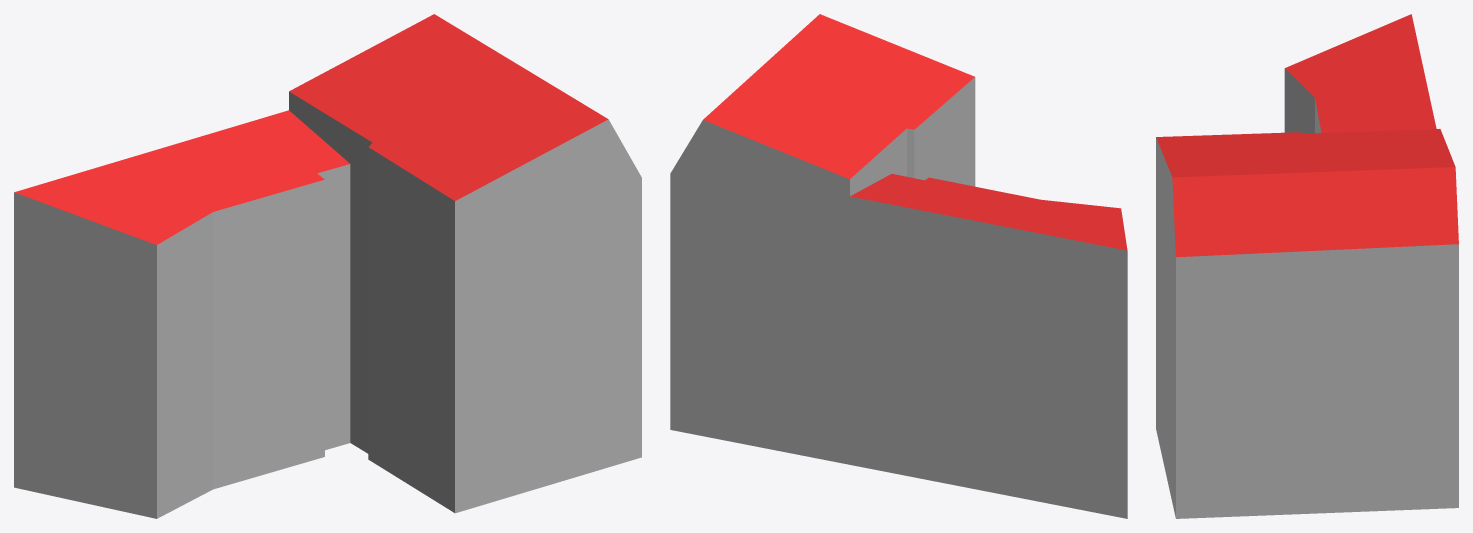
Rendered from DEBE3D01YYK0002Lmq.dae.
3 views of the same model, side by side, from view 1: azimuth 30°, elevation 25°; view 2: azimuth 150°, elevation 25°; view 3: azimuth 270°, elevation 25° (orthographic). The views are drawn at different scales.
Size of the model in its own units: 34.64 by 19.38 by 22.97.
